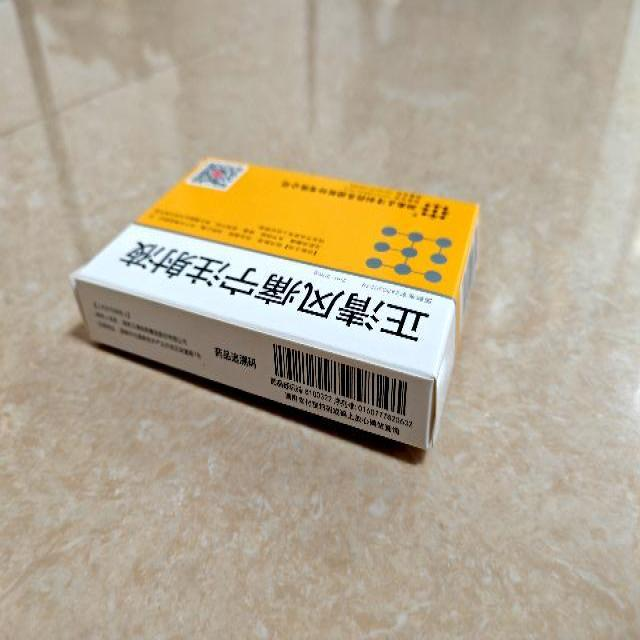box: (74, 154, 482, 449)
